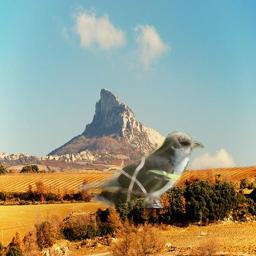Cuckoo: (77, 131, 204, 208)
